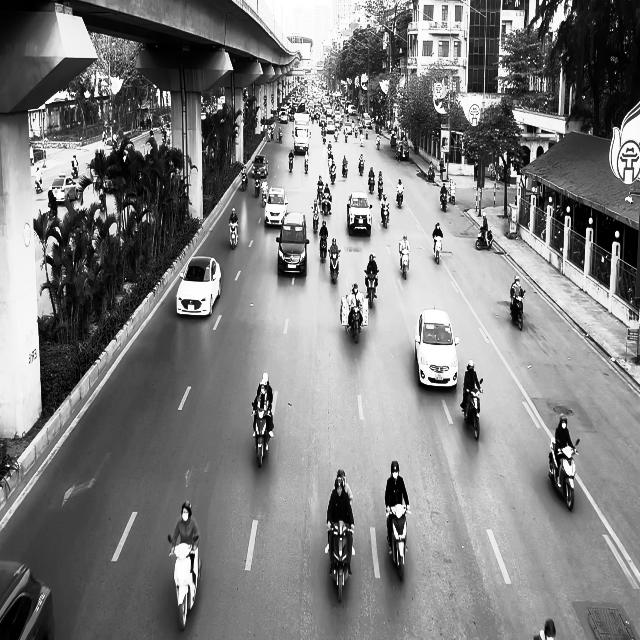car: (0, 560, 55, 639), (415, 307, 460, 388), (176, 255, 222, 317), (276, 212, 310, 277), (347, 191, 373, 236), (49, 174, 81, 204), (264, 187, 288, 226), (252, 155, 269, 178)
motorbike: (168, 534, 202, 630), (548, 437, 580, 511), (328, 522, 354, 602), (386, 505, 411, 581), (252, 407, 273, 468), (464, 378, 484, 439), (510, 289, 526, 331), (346, 305, 363, 343), (366, 272, 378, 308), (329, 249, 341, 283), (476, 228, 493, 250), (400, 245, 410, 279), (433, 234, 443, 264), (229, 220, 239, 249), (320, 232, 328, 262), (381, 203, 390, 228), (322, 193, 332, 215), (448, 180, 456, 205), (312, 206, 319, 233), (440, 190, 448, 212), (396, 186, 404, 208), (241, 170, 248, 191), (35, 175, 43, 193), (304, 152, 309, 173), (342, 162, 348, 178), (289, 152, 294, 171), (359, 159, 364, 176)
